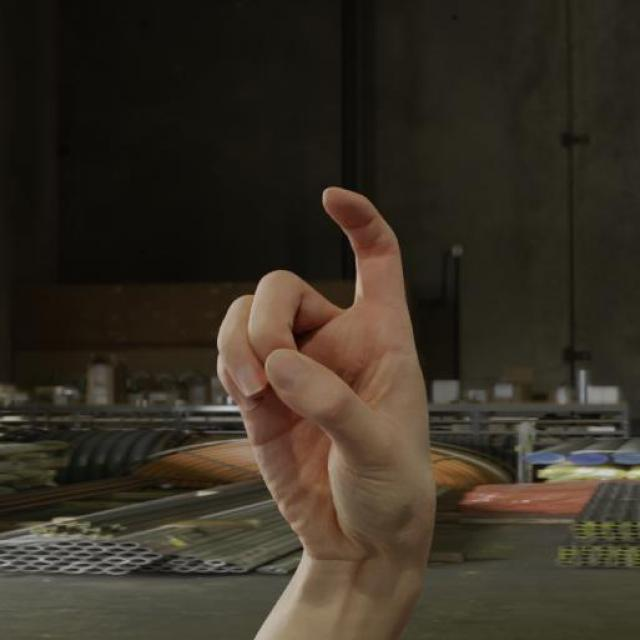X: (211, 178, 450, 576)
